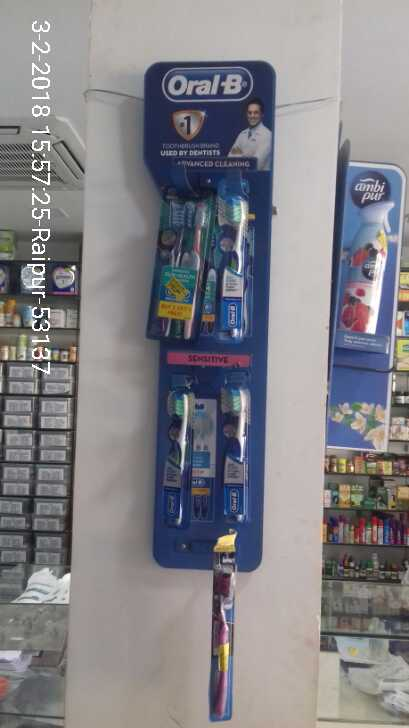home: (339, 166, 399, 353)
pharmacy: (207, 558, 244, 724), (158, 380, 193, 532), (221, 382, 253, 527)
